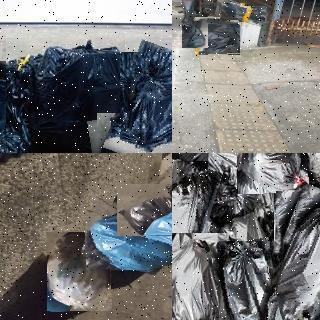Garbage: (6, 33, 125, 153), (261, 187, 320, 320), (111, 45, 172, 153), (83, 203, 172, 276), (214, 239, 283, 320), (46, 231, 111, 312), (172, 157, 215, 277), (172, 233, 229, 320), (201, 153, 259, 216), (92, 109, 172, 153), (0, 56, 35, 153), (236, 153, 308, 193), (117, 184, 172, 236), (195, 17, 240, 56), (221, 3, 268, 25), (182, 21, 208, 48)
